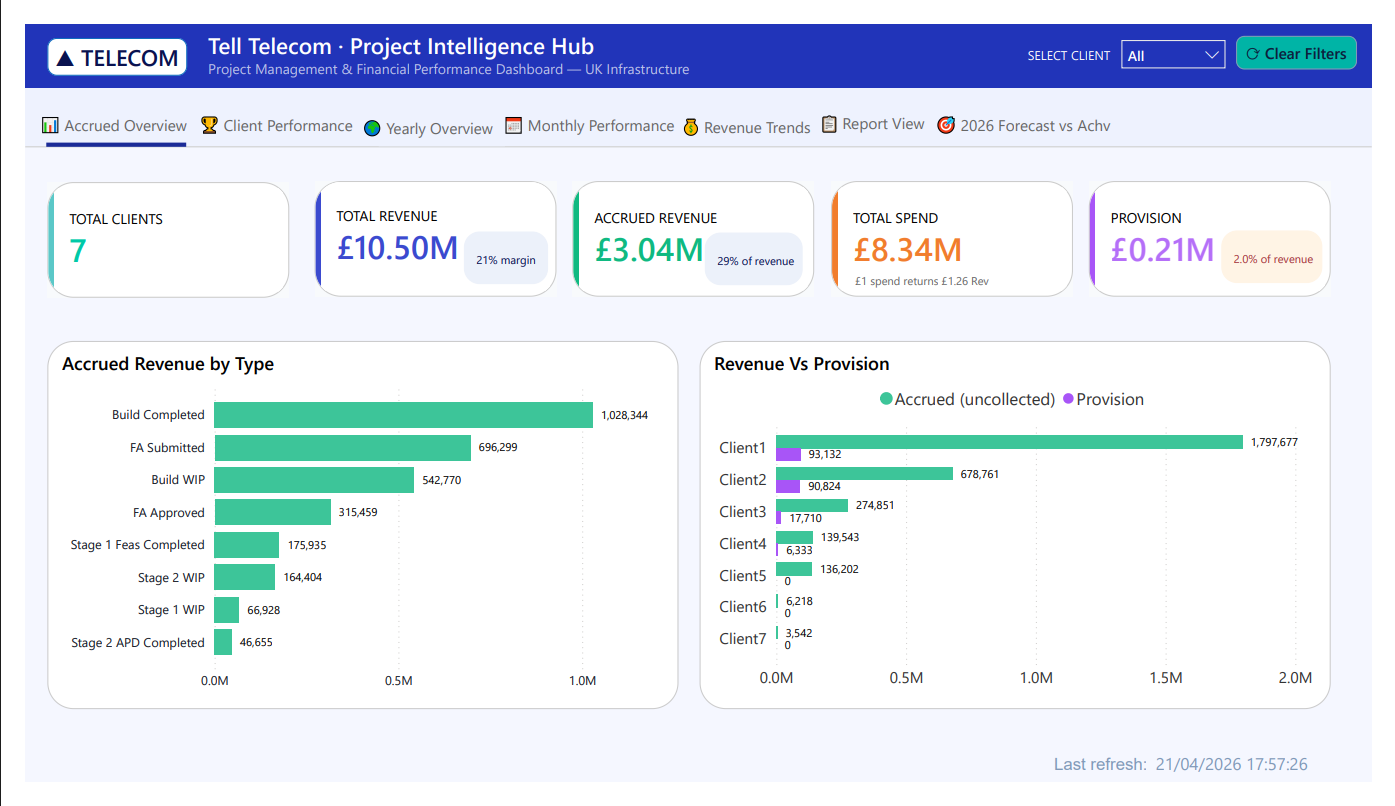

The page's visual inventory and layout, read from the dashboard file:
{"tool":"powerbi","page":{"name":"Accrued -Overview","canvas":[1280,720],"ordinal":0},"visuals":[{"type":"cardVisual","fields":{"Data":["Measure Table.Total Revenue"]},"box":[275.6,148.6,230,110],"z":0,"group":"g2"},{"type":"cardVisual","fields":{"Data":["Measure Table.Total Accrued Income"]},"box":[520.8,148.6,230,110],"z":0,"group":"g4"},{"type":"cardVisual","fields":{"Data":["Measure Table.Total Cost Paid"]},"box":[766.1,148.6,230,110],"z":0,"group":"g3"},{"type":"cardVisual","fields":{"Data":["Measure Table.Total Provision"]},"box":[1011.3,148.6,230,110],"z":0,"group":"g5"},{"type":"cardVisual","fields":{"Data":["Measure Table.Total Clients"]},"box":[21.4,149.1,230,110],"z":0,"group":"g1"},{"type":"cardVisual","fields":{"Data":["Measure Table.Provision %"]},"box":[999,155.4,230.6,57.4],"z":0,"group":"g7"},{"type":"cardVisual","fields":{"Data":["Measure Table.Provision %"]},"box":[1137,196,95.7,50],"z":0,"group":"g10"},{"type":"cardVisual","fields":{"Data":["Measure Table.Project Margin %"]},"box":[417,196.9,80,50],"z":0,"group":"g6"},{"type":"cardVisual","fields":{"Data":["Measure Table.Total Accrued Revenue %"]},"box":[646,198,93,50],"z":0,"group":"g9"},{"type":"cardVisual","fields":{"Data":["Measure Table.Reveneue Efficiency %"]},"box":[765.2,221.9,208.6,41.4],"z":0,"group":"g8"},{"type":"clusteredBarChart","title":"Accrued Revenue by Type","fields":{"Category":["Accrured Revenue Project.Type"],"Y":["Measure Table.Total Accrued Revenue"]},"box":[21,301,600,350],"z":0},{"type":"textbox","box":[0,0,1280,62.5],"z":1000},{"type":"textbox","box":[30.2,216.2,101.2,31.2],"z":1000,"group":"g7"},{"type":"shape","box":[0,61.4,1280,54.3],"z":2000},{"type":"group","id":"g1","title":"Group 1","box":[21.4,149.1,230,110],"z":2000,"group":"g7"},{"type":"shape","title":"▲ TELIGENT","box":[21.4,12.6,132.9,36.5],"z":3000},{"type":"group","id":"g2","title":"Group 1","box":[275.6,148.6,230,110],"z":3000,"group":"g7"},{"type":"group","id":"g3","title":"Group 1","box":[766.1,148.6,230,110],"z":4000,"group":"g7"},{"type":"textbox","box":[973.1,690.4,119.6,30.8],"z":4000},{"type":"group","id":"g4","title":"Group 1","box":[520.8,148.6,230,110],"z":5000,"group":"g7"},{"type":"shape","box":[0,111.1,1280,11.1],"z":6000},{"type":"group","id":"g5","title":"Group 1","box":[1011.3,148.6,230,110],"z":6000,"group":"g7"},{"type":"textbox","box":[169,0,477.1,74.3],"z":7000},{"type":"group","id":"g6","title":"Group 3","box":[417,196.9,80,50],"z":7000,"group":"g7"},{"type":"group","id":"g7","title":"5 KPI ","box":[21.4,148.6,1219.9,114.8],"z":8000},{"type":"group","id":"g8","title":"Group 3","box":[765.2,221.9,208.6,41.4],"z":8000,"group":"g7"},{"type":"group","id":"g9","title":"Group 3","box":[646,198,93,50],"z":9000,"group":"g7"},{"type":"clusteredBarChart","title":"Revenue Vs Provision","fields":{"Category":["Accrured Revenue Project.Parent Project"],"Y":["Sum(Accrured Revenue Project.Accrued Income)","Sum(Accrured Revenue Project.Differential)"]},"box":[641,301,600,350],"z":9000},{"type":"group","id":"g10","title":"Group 3","box":[1137,196,95.7,50],"z":10000,"group":"g7"},{"type":"card","fields":{"Values":["Min(Last refreshed.Last Refreshed Time)"]},"box":[1065.5,690.4,163.1,29],"z":10000},{"type":"actionButton","box":[1151.2,11.2,115,31.2],"z":11000},{"type":"actionButton","box":[4.3,75,160.1,40.4],"z":12000},{"type":"actionButton","box":[616.3,76.8,138.5,39],"z":13000},{"type":"actionButton","box":[314.5,77.9,135.6,39],"z":14000},{"type":"actionButton","box":[450.1,75,171.7,40.4],"z":15000},{"type":"actionButton","box":[749.1,73.9,112.5,40.4],"z":17000},{"type":"shape","box":[20.4,97.1,133,34.8],"z":18000},{"type":"shape","box":[176,95.2,144.3,33.2],"z":19000},{"type":"shape","box":[335.6,98.4,120,31.7],"z":20000},{"type":"shape","box":[763.8,95.2,105.3,33.2],"z":22000},{"type":"shape","box":[836,96.8,100,33.3],"z":23000},{"type":"actionButton","box":[857.6,75,181.8,39],"z":24000},{"type":"shape","box":[898,94.4,141.4,33.2],"z":25000},{"type":"actionButton","box":[157.3,75,163,40.4],"z":26000},{"type":"shape","box":[920.5,97,155.8,33.2],"z":27000},{"type":"shape","box":[452.2,94.4,170.2,34.6],"z":28000},{"type":"textbox","box":[947.5,15,90,30],"z":29000},{"type":"slicer","title":"Select Year","fields":{"Values":["Accrured Revenue Project.Parent Project"]},"box":[1037,9.5,108.8,36.2],"z":30000}]}

Visuals, with their boxes on the page's 1280x720 design canvas (x1, y1, x2, y2). These are canvas units, not pixel positions in the 1395x806 screenshot, which may show the page scaled, cropped or inside an application window:
cardVisual - Measure Table.Total Revenue: {"left": 276, "top": 149, "right": 506, "bottom": 259}
cardVisual - Measure Table.Total Accrued Income: {"left": 521, "top": 149, "right": 751, "bottom": 259}
cardVisual - Measure Table.Total Cost Paid: {"left": 766, "top": 149, "right": 996, "bottom": 259}
cardVisual - Measure Table.Total Provision: {"left": 1011, "top": 149, "right": 1241, "bottom": 259}
cardVisual - Measure Table.Total Clients: {"left": 21, "top": 149, "right": 251, "bottom": 259}
cardVisual - Measure Table.Provision %: {"left": 999, "top": 155, "right": 1230, "bottom": 213}
cardVisual - Measure Table.Provision %: {"left": 1137, "top": 196, "right": 1233, "bottom": 246}
cardVisual - Measure Table.Project Margin %: {"left": 417, "top": 197, "right": 497, "bottom": 247}
cardVisual - Measure Table.Total Accrued Revenue %: {"left": 646, "top": 198, "right": 739, "bottom": 248}
cardVisual - Measure Table.Reveneue Efficiency %: {"left": 765, "top": 222, "right": 974, "bottom": 263}
"Accrued Revenue by Type" clusteredBarChart: {"left": 21, "top": 301, "right": 621, "bottom": 651}
textbox: {"left": 0, "top": 0, "right": 1280, "bottom": 62}
textbox: {"left": 30, "top": 216, "right": 131, "bottom": 247}
shape: {"left": 0, "top": 61, "right": 1280, "bottom": 116}
"Group 1" group: {"left": 21, "top": 149, "right": 251, "bottom": 259}
"▲ TELIGENT" shape: {"left": 21, "top": 13, "right": 154, "bottom": 49}
"Group 1" group: {"left": 276, "top": 149, "right": 506, "bottom": 259}
"Group 1" group: {"left": 766, "top": 149, "right": 996, "bottom": 259}
textbox: {"left": 973, "top": 690, "right": 1093, "bottom": 721}
"Group 1" group: {"left": 521, "top": 149, "right": 751, "bottom": 259}
shape: {"left": 0, "top": 111, "right": 1280, "bottom": 122}
"Group 1" group: {"left": 1011, "top": 149, "right": 1241, "bottom": 259}
textbox: {"left": 169, "top": 0, "right": 646, "bottom": 74}
"Group 3" group: {"left": 417, "top": 197, "right": 497, "bottom": 247}
"5 KPI " group: {"left": 21, "top": 149, "right": 1241, "bottom": 263}
"Group 3" group: {"left": 765, "top": 222, "right": 974, "bottom": 263}
"Group 3" group: {"left": 646, "top": 198, "right": 739, "bottom": 248}
"Revenue Vs Provision" clusteredBarChart: {"left": 641, "top": 301, "right": 1241, "bottom": 651}
"Group 3" group: {"left": 1137, "top": 196, "right": 1233, "bottom": 246}
card - Min(Last refreshed.Last Refreshed Time): {"left": 1066, "top": 690, "right": 1229, "bottom": 719}
actionButton: {"left": 1151, "top": 11, "right": 1266, "bottom": 42}
actionButton: {"left": 4, "top": 75, "right": 164, "bottom": 115}
actionButton: {"left": 616, "top": 77, "right": 755, "bottom": 116}
actionButton: {"left": 314, "top": 78, "right": 450, "bottom": 117}
actionButton: {"left": 450, "top": 75, "right": 622, "bottom": 115}
actionButton: {"left": 749, "top": 74, "right": 862, "bottom": 114}
shape: {"left": 20, "top": 97, "right": 153, "bottom": 132}
shape: {"left": 176, "top": 95, "right": 320, "bottom": 128}
shape: {"left": 336, "top": 98, "right": 456, "bottom": 130}
shape: {"left": 764, "top": 95, "right": 869, "bottom": 128}
shape: {"left": 836, "top": 97, "right": 936, "bottom": 130}
actionButton: {"left": 858, "top": 75, "right": 1039, "bottom": 114}
shape: {"left": 898, "top": 94, "right": 1039, "bottom": 128}
actionButton: {"left": 157, "top": 75, "right": 320, "bottom": 115}
shape: {"left": 920, "top": 97, "right": 1076, "bottom": 130}
shape: {"left": 452, "top": 94, "right": 622, "bottom": 129}
textbox: {"left": 948, "top": 15, "right": 1038, "bottom": 45}
"Select Year" slicer: {"left": 1037, "top": 10, "right": 1146, "bottom": 46}
